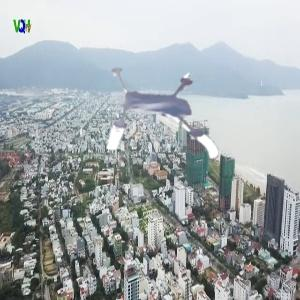drone: (100, 56, 219, 175)
